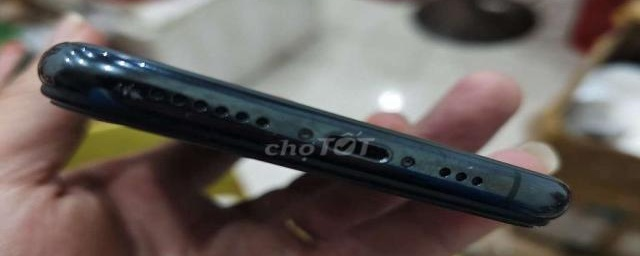physical_damage: (84, 63, 175, 112)
